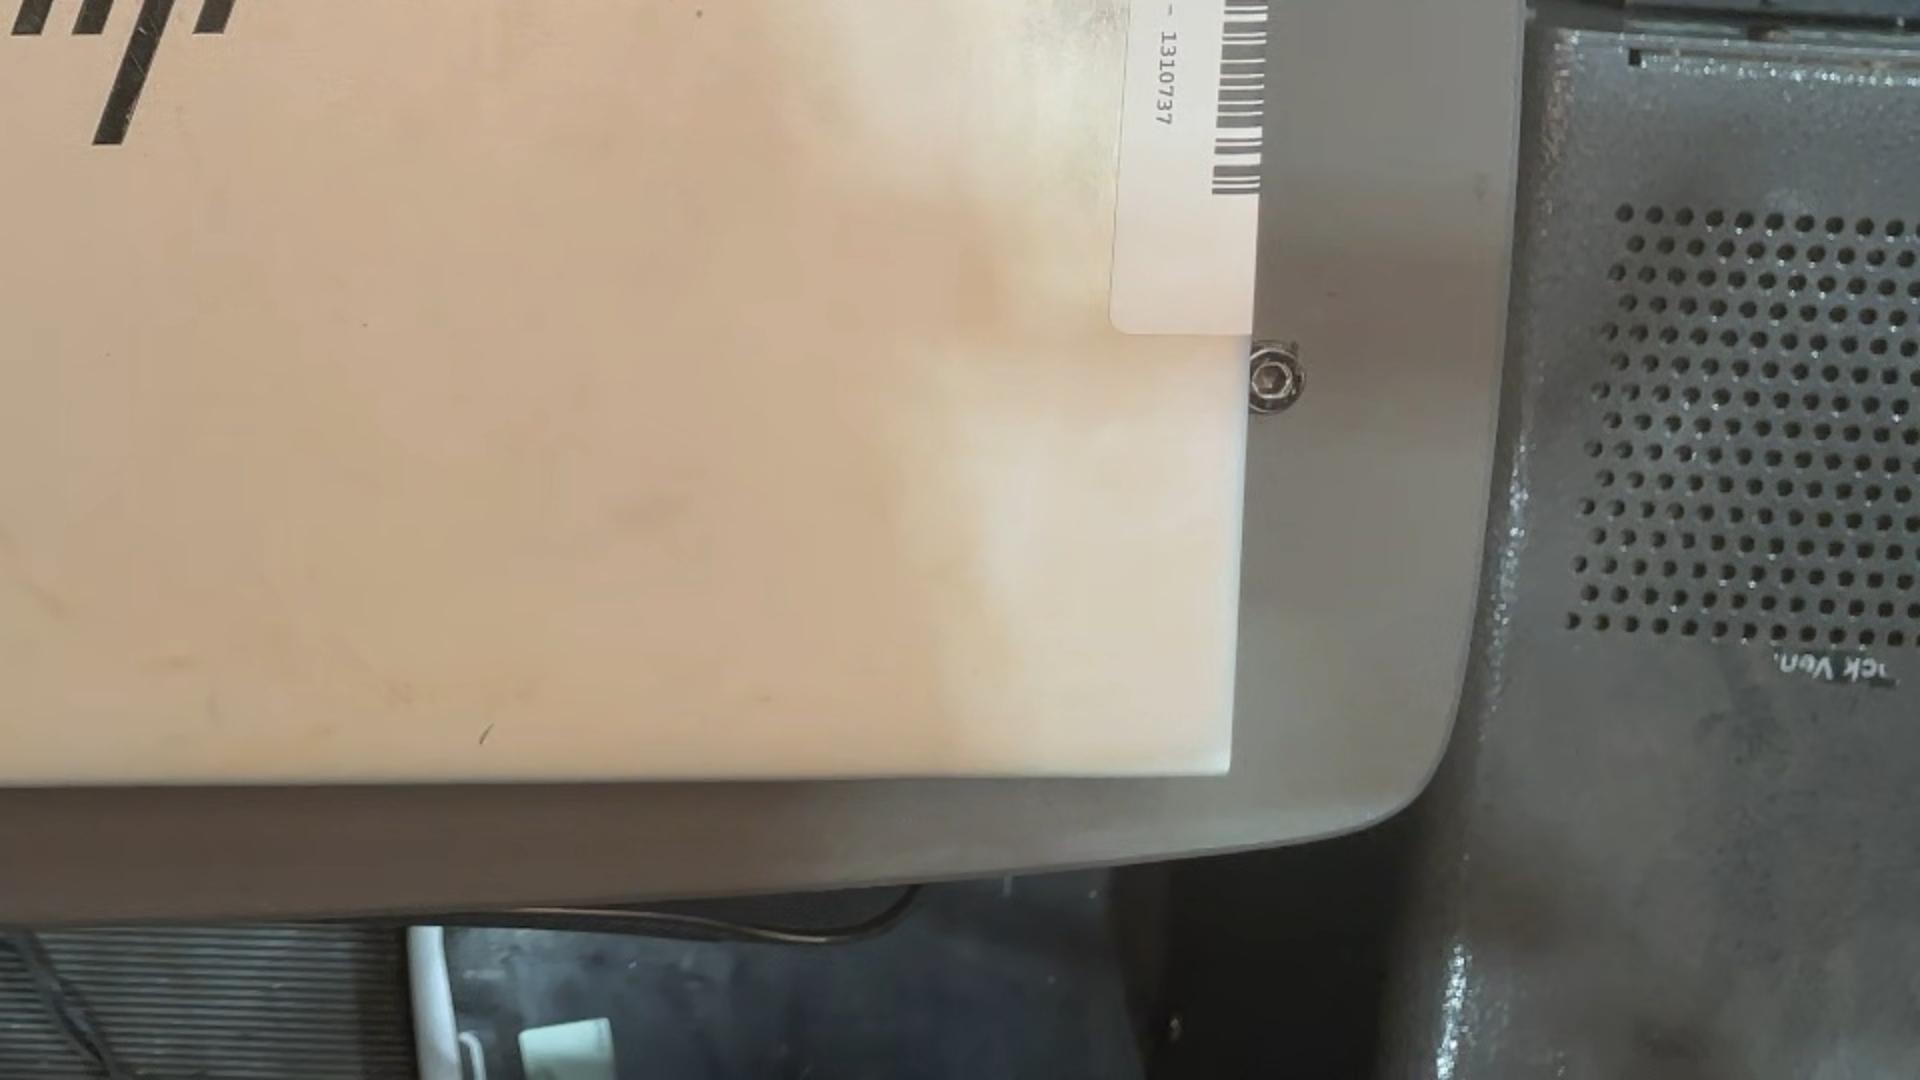scratches: (125, 47, 148, 79), (475, 720, 498, 748), (136, 25, 150, 38)
